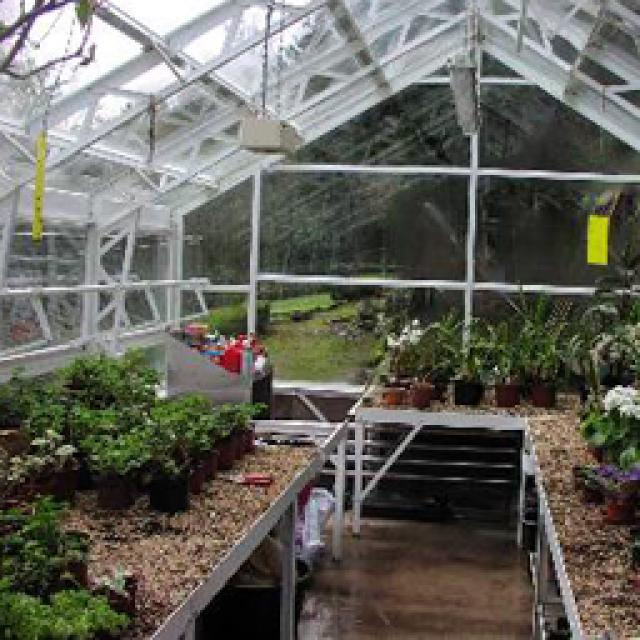bucket: (198, 542, 312, 635)
pane: (255, 170, 465, 280), (275, 45, 470, 162), (475, 48, 635, 170), (475, 175, 635, 285)
plant: (182, 415, 250, 490)
plant -x: (5, 425, 75, 480), (400, 322, 452, 380), (475, 322, 515, 380), (442, 335, 480, 378)
plant pot occlued: (92, 465, 135, 505), (148, 468, 185, 510), (452, 378, 478, 402), (525, 380, 552, 402), (492, 380, 515, 405), (408, 382, 432, 405)
plants: (82, 390, 260, 475), (58, 350, 158, 442), (2, 585, 122, 635), (2, 362, 65, 440), (568, 318, 635, 390), (580, 380, 635, 442), (578, 442, 635, 498), (510, 325, 560, 380)
